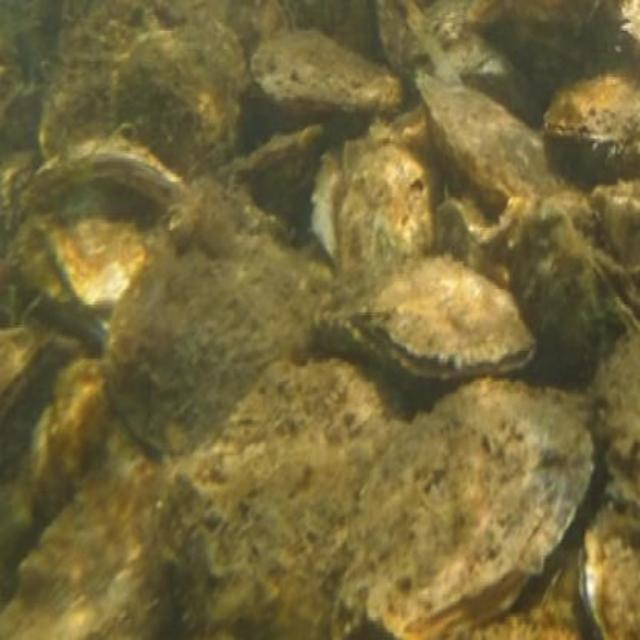Oyster-Closed: (339, 377, 594, 638), (158, 365, 388, 638), (108, 177, 333, 454), (0, 437, 173, 638), (476, 193, 601, 382), (359, 254, 538, 379), (418, 80, 567, 210), (112, 17, 240, 167), (44, 0, 157, 156), (462, 0, 633, 101), (425, 0, 551, 137), (33, 359, 124, 519), (332, 145, 437, 270), (254, 29, 396, 118), (39, 203, 154, 309), (32, 137, 175, 217), (220, 128, 319, 232), (546, 65, 638, 176), (581, 510, 638, 638), (380, 0, 461, 85), (603, 330, 638, 513), (0, 312, 58, 415), (435, 197, 486, 262)
Oyster-Open: (586, 247, 638, 332)
